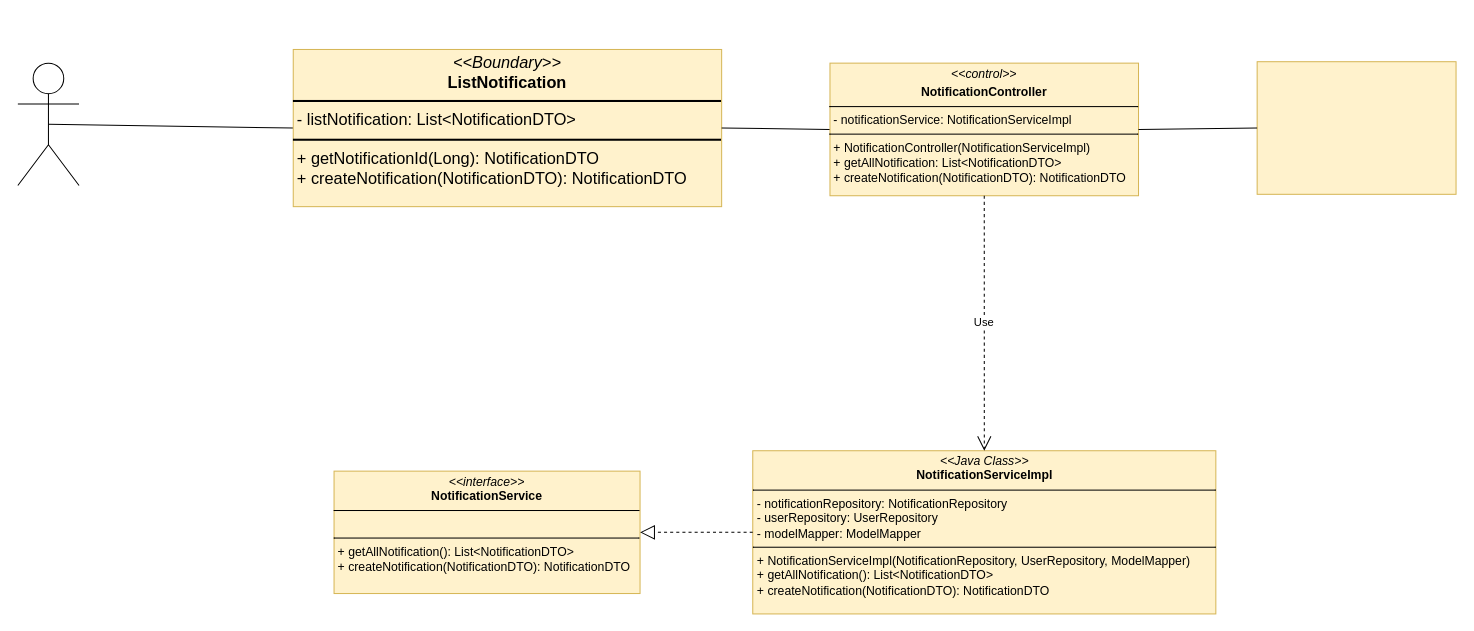
The diagram is 1474 pixels wide and 631 high, and some of its shapes have lost their labels. The box of each missing label's shape, as (x1, y1, x2, y2) in pixels:
<<entity>> NotificationDTO - title: String - content: String - date: LocalDate: (1256, 61, 1456, 194)
Quản lý: (17, 62, 79, 186)
